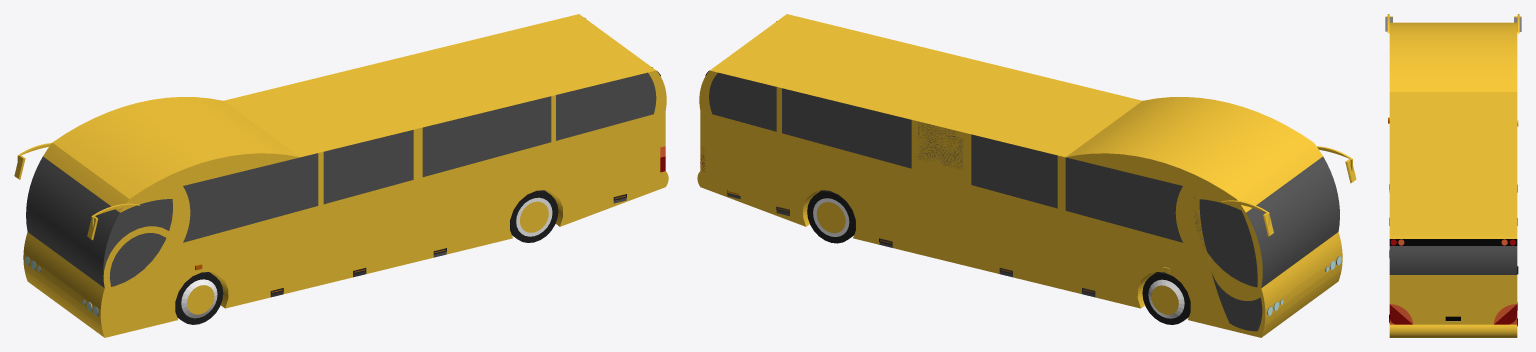
File: bus.dae
3 views of the same model, side by side, from view 1: azimuth 30°, elevation 25°; view 2: azimuth 150°, elevation 25°; view 3: azimuth 270°, elevation 25° (orthographic). The views are drawn at different scales.
Parts seen in each view (by area): view 1: Model; view 2: Model; view 3: Model.
Boxes of the visible parts, x1,y1,x2,y2 form: Model: [14, 14, 668, 337]; Model: [697, 14, 1356, 337]; Model: [1385, 14, 1521, 337].
Size of the model in its own units: 492 by 121 by 132.
